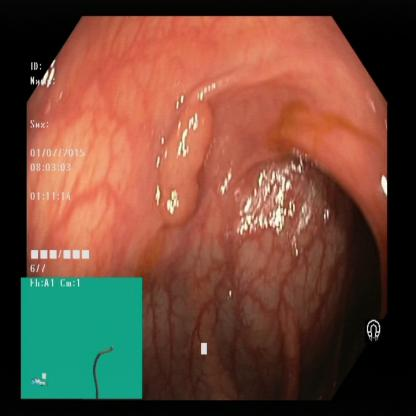Labels: (27, 53, 101, 275), (21, 281, 142, 400), (361, 309, 394, 348)
Polyps: (145, 73, 217, 235)
